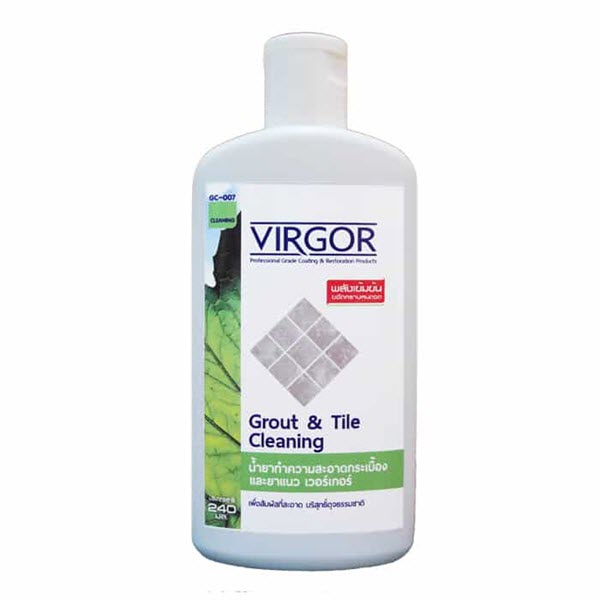Cleaning_solution: (184, 26, 423, 581)
